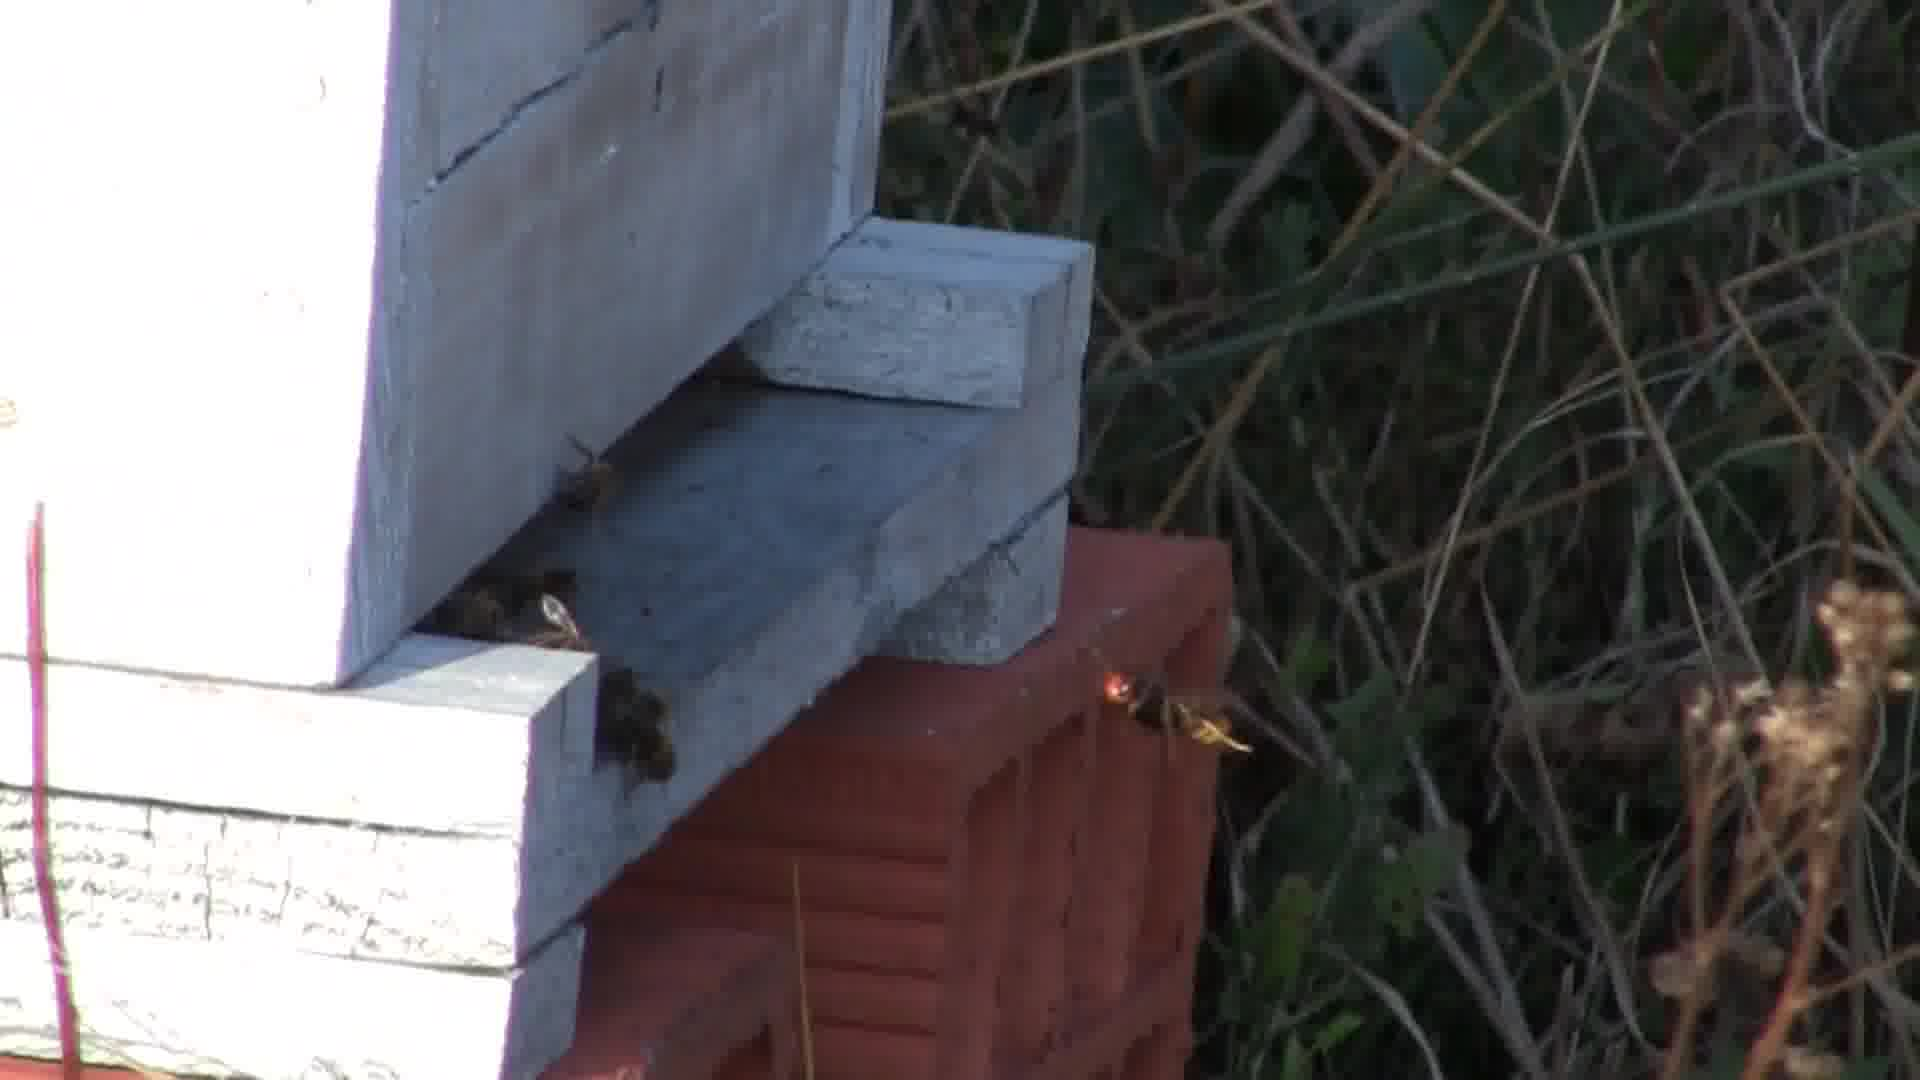bee: (595, 661, 683, 800), (547, 436, 613, 527)
hornet: (1092, 655, 1261, 774)
